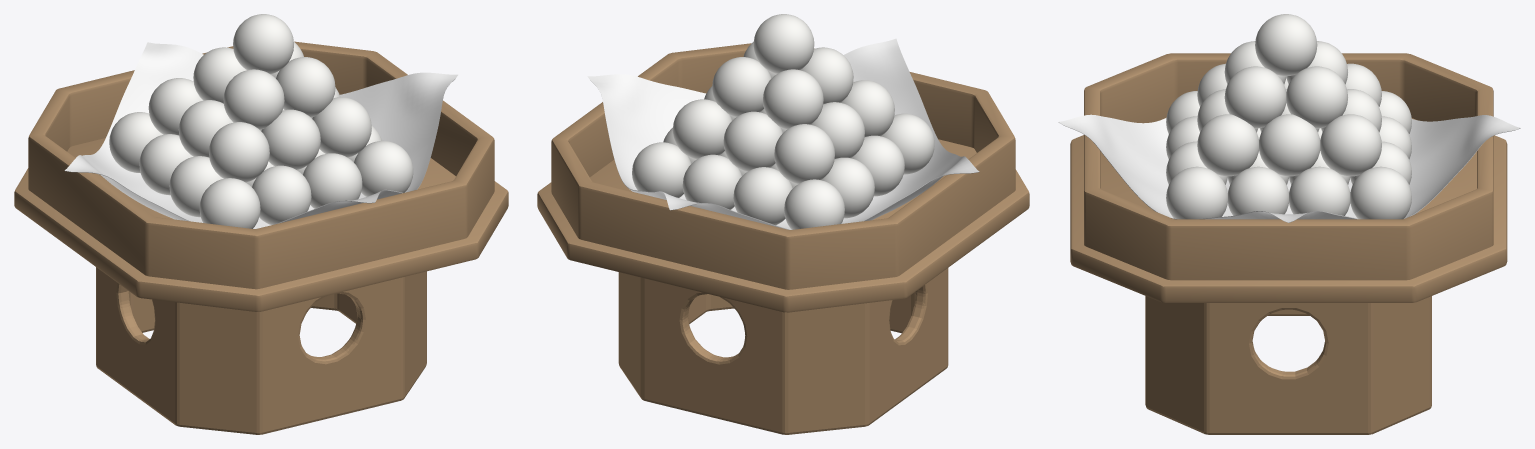
Rendered from autumn.glb.
The picture shows the model from 3 angles, left to right: view 1: azimuth 30°, elevation 25°; view 2: azimuth 150°, elevation 25°; view 3: azimuth 270°, elevation 25°; orthographic projection. The views are drawn at different scales.
Parts seen in each view (by area): view 1: Line003, Line001, Line002, Plane001, Sphere023, Sphere030, Sphere028, Sphere024, Sphere029, Sphere014, Sphere025, Sphere013 (+8 smaller); view 2: Line003, Line001, Line002, Plane001, Sphere017, Sphere030, Sphere026, Sphere018, Sphere019, Sphere027, Sphere002, Sphere001 (+8 smaller); view 3: Line003, Line001, Line002, Plane001, Sphere030, Sphere019, Sphere025, Sphere022, Sphere027, Sphere029, Sphere004, Sphere016 (+14 smaller).
Boxes of the visible parts, x1,y1,x2,y2 form: Line003: (28, 41, 494, 289); Line001: (96, 267, 426, 434); Line002: (14, 138, 508, 311); Plane001: (64, 42, 457, 228); Sphere023: (209, 122, 269, 182); Sphere030: (233, 14, 293, 74); Sphere028: (223, 69, 284, 129); Sphere024: (261, 109, 320, 169); Sphere029: (276, 57, 335, 117); Sphere014: (252, 165, 311, 225); Sphere025: (312, 97, 371, 157); Sphere013: (199, 178, 260, 228); Line003: (551, 43, 1015, 289); Line001: (618, 268, 948, 434); Line002: (537, 139, 1029, 312); Plane001: (587, 38, 979, 229); Sphere017: (774, 124, 834, 183); Sphere030: (753, 14, 814, 73); Sphere026: (763, 69, 823, 129); Sphere018: (723, 111, 782, 171); Sphere019: (672, 99, 731, 159); Sphere027: (712, 57, 771, 116); Sphere002: (733, 167, 792, 225); Sphere001: (784, 179, 844, 229); Line003: (1084, 53, 1493, 280); Line001: (1145, 296, 1431, 434); Line002: (1070, 118, 1507, 302); Plane001: (1058, 114, 1520, 222); Sphere030: (1255, 14, 1317, 76); Sphere019: (1320, 114, 1381, 176); Sphere025: (1197, 114, 1258, 176); Sphere022: (1259, 114, 1320, 176); Sphere027: (1286, 66, 1347, 128); Sphere029: (1224, 66, 1286, 128); Sphere004: (1350, 166, 1411, 219); Sphere016: (1166, 166, 1227, 219).
Size of the model in its own units: 1.75 by 1.49 by 1.75.
